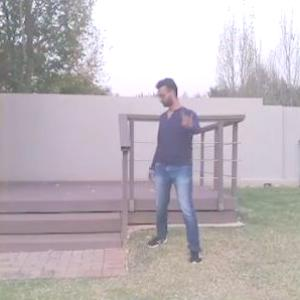takeoff-hand: (174, 99, 198, 129)
